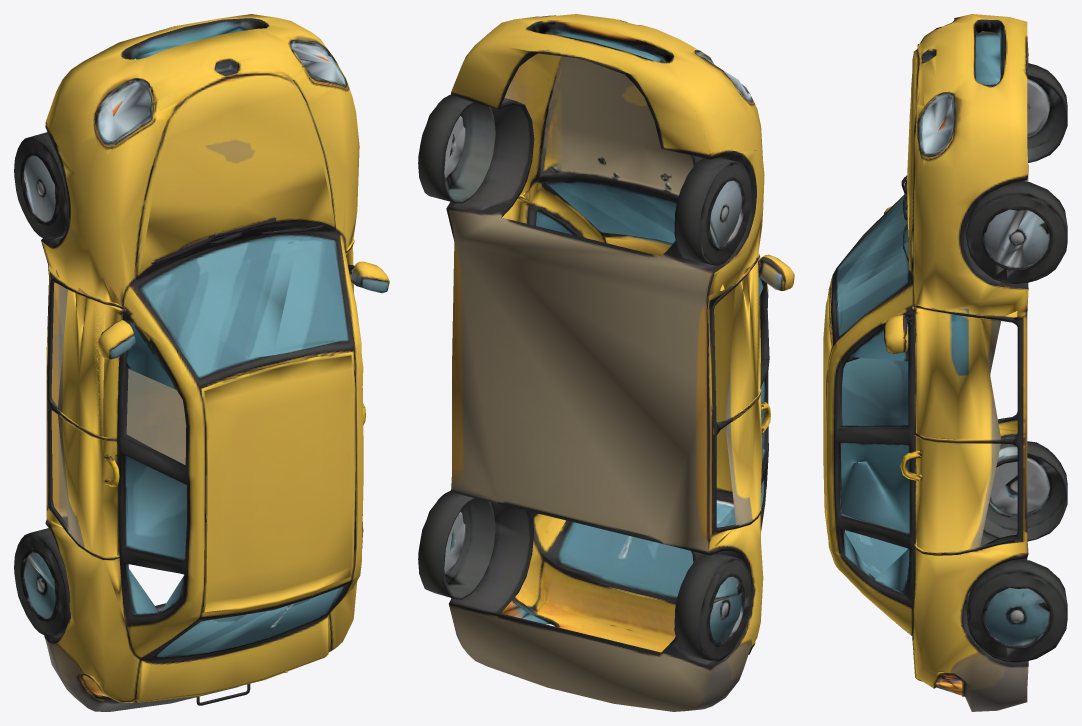
Rendered from selected.fbx.
The picture shows the model from 3 angles, left to right: view 1: azimuth 30°, elevation 25°; view 2: azimuth 150°, elevation 25°; view 3: azimuth 270°, elevation 25°; orthographic projection. The views are drawn at different scales.
Visible parts, largest first — view 1: tripo_node_77fe20ba-119c-4ff9-8153-626c45706128; view 2: tripo_node_77fe20ba-119c-4ff9-8153-626c45706128; view 3: tripo_node_77fe20ba-119c-4ff9-8153-626c45706128.
Part boxes in pixels (<box>): tripo_node_77fe20ba-119c-4ff9-8153-626c45706128: <box>14,14,389,711</box>; tripo_node_77fe20ba-119c-4ff9-8153-626c45706128: <box>418,14,794,711</box>; tripo_node_77fe20ba-119c-4ff9-8153-626c45706128: <box>823,14,1067,711</box>.
Size of the model in its own units: 45.51 by 99.8 by 35.35.
1 material, 1 textured.
